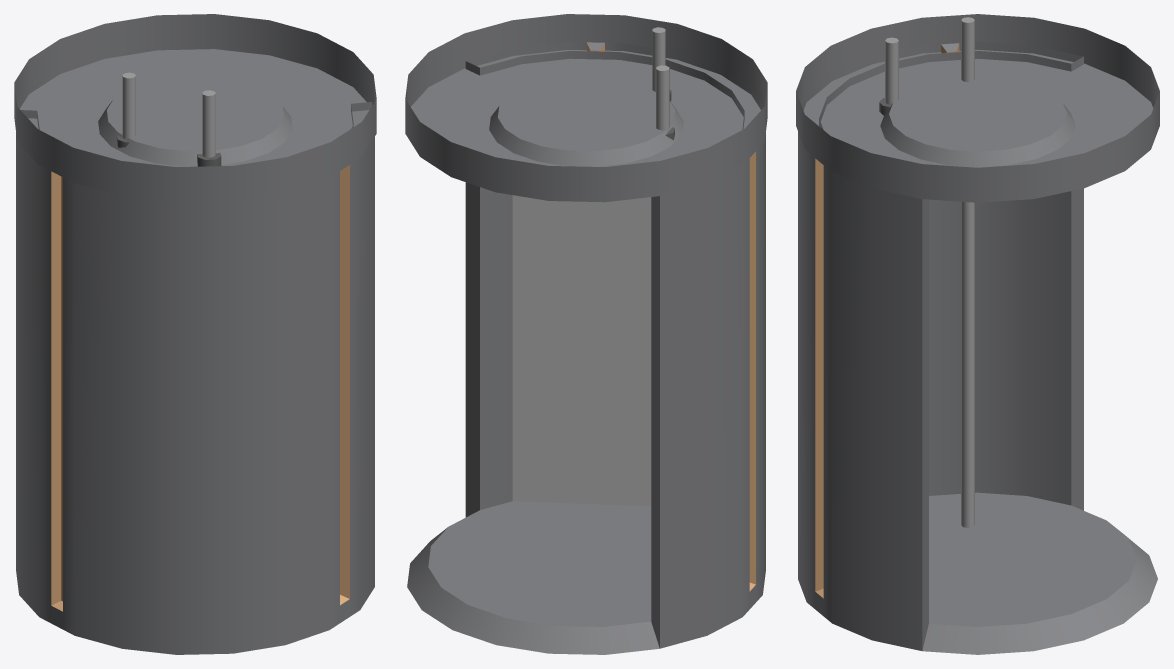
File: TerminalPod.fbx
3 renders of one model, left to right at view 1: azimuth 30°, elevation 25°; view 2: azimuth 150°, elevation 25°; view 3: azimuth 270°, elevation 25°, orthographic.
Visible parts, largest first — view 1: TerminalPod; view 2: TerminalPod; view 3: TerminalPod.
Part boxes in pixels (x1,y1,x2,y2): TerminalPod: (14,14,376,654); TerminalPod: (405,14,767,654); TerminalPod: (796,14,1159,654).
Size of the model in its own units: 1.39 by 2.25 by 1.39.
